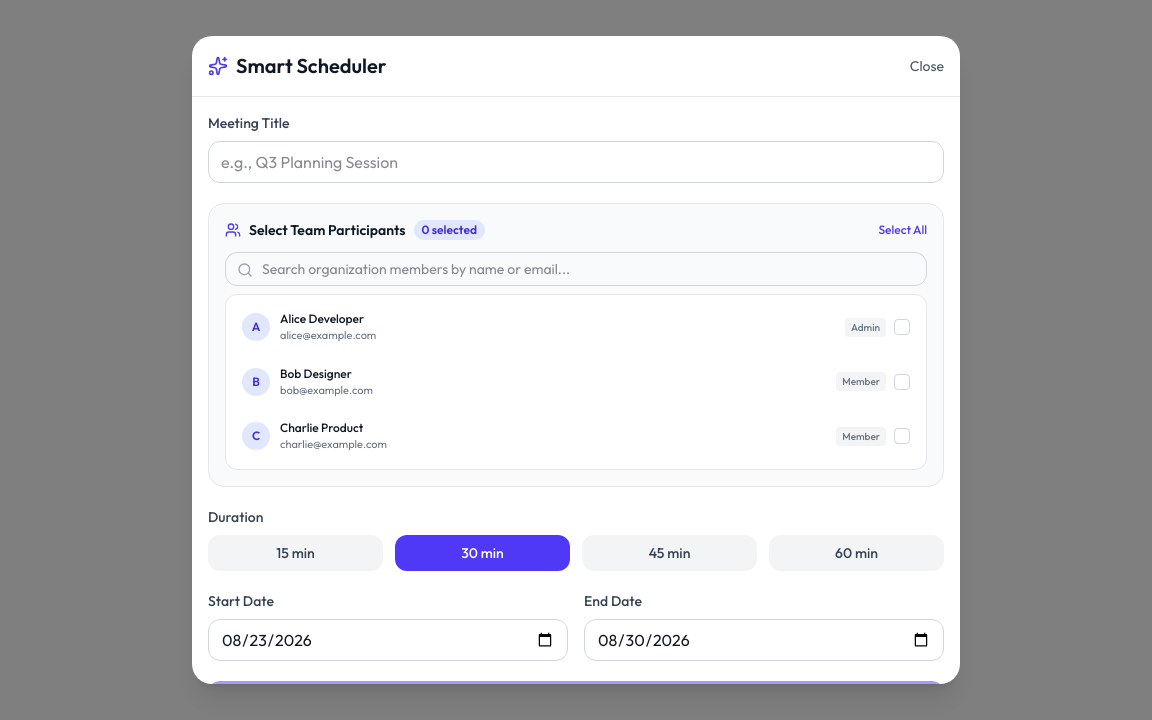
Scenario: SchedulerWizard Component (#1897) › passes selected participant IDs to schedulerApi.createProposal
This screenshot has width=1152, height=720.
Check: the text "Alice Developer" is shown, box top-left (280, 311), bottom-right (376, 327)
# Enter title
Step 1. Type "Sprint Architecture Sync" into the field with placeholder "e.g., Q3 Planning Session" → (576, 162), box top-left (208, 141), bottom-right (944, 183)
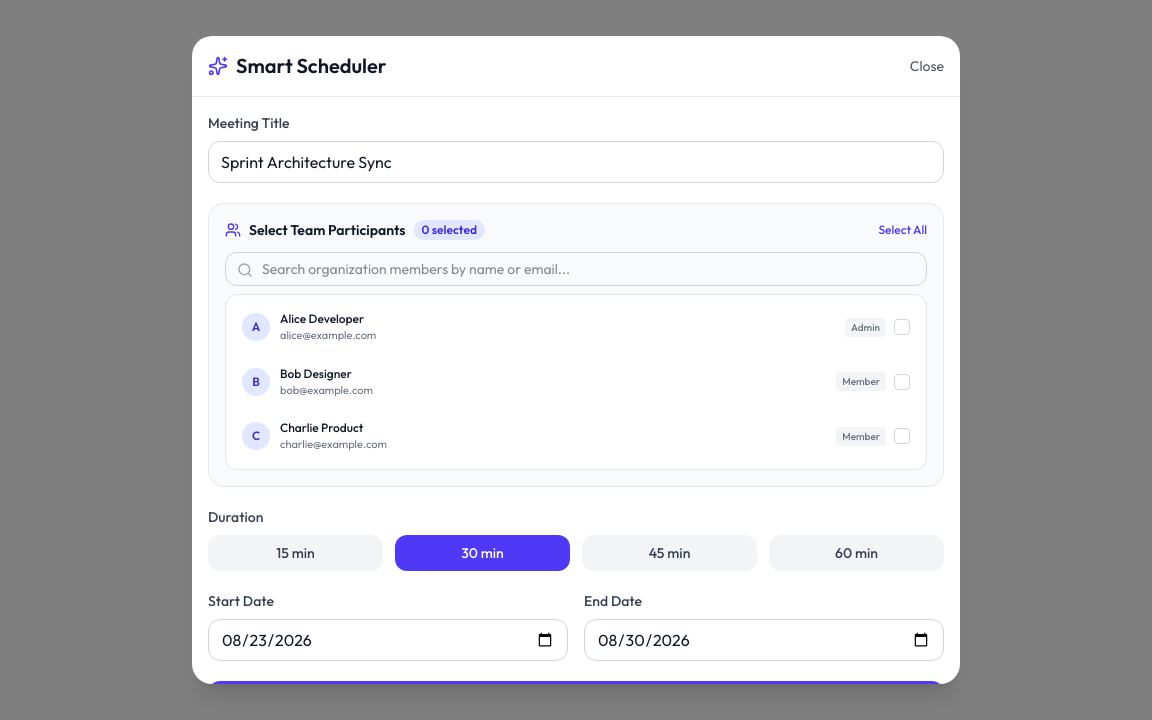
# Select Alice and Bob
Step 2. Click the text "Alice Developer" → (328, 319), box top-left (280, 311), bottom-right (376, 327)
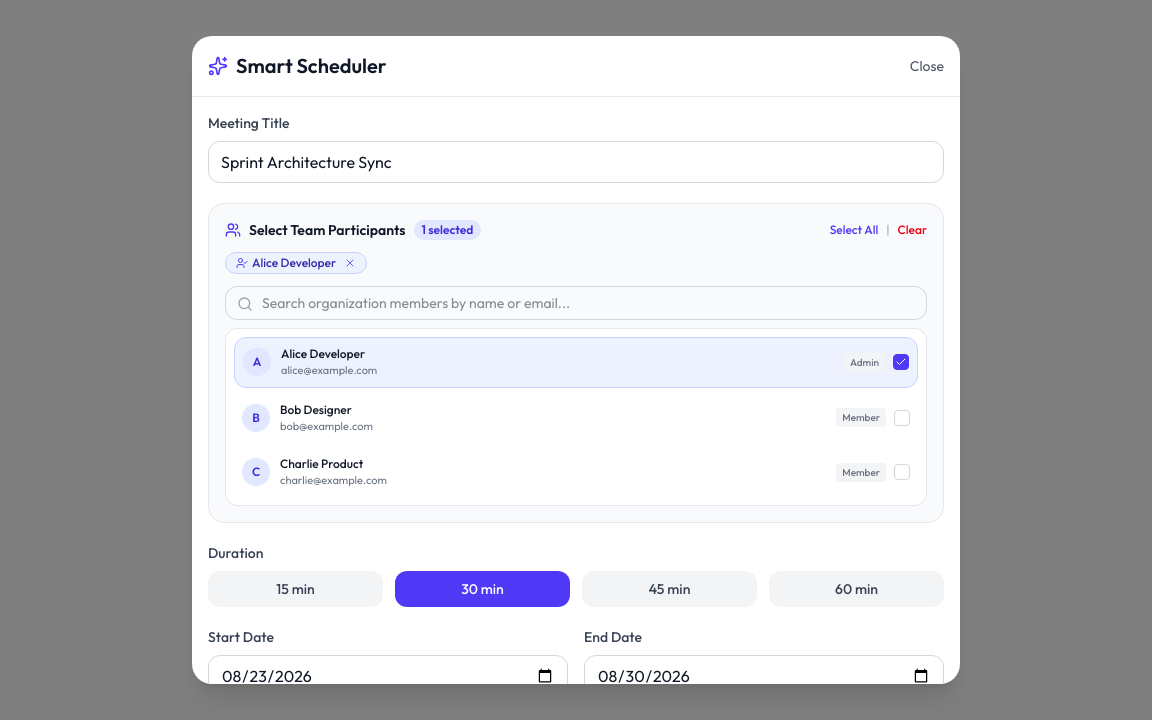
Step 3. Click the text "Bob Designer" → (316, 409), box top-left (280, 402), bottom-right (352, 416)
(page scrolled)
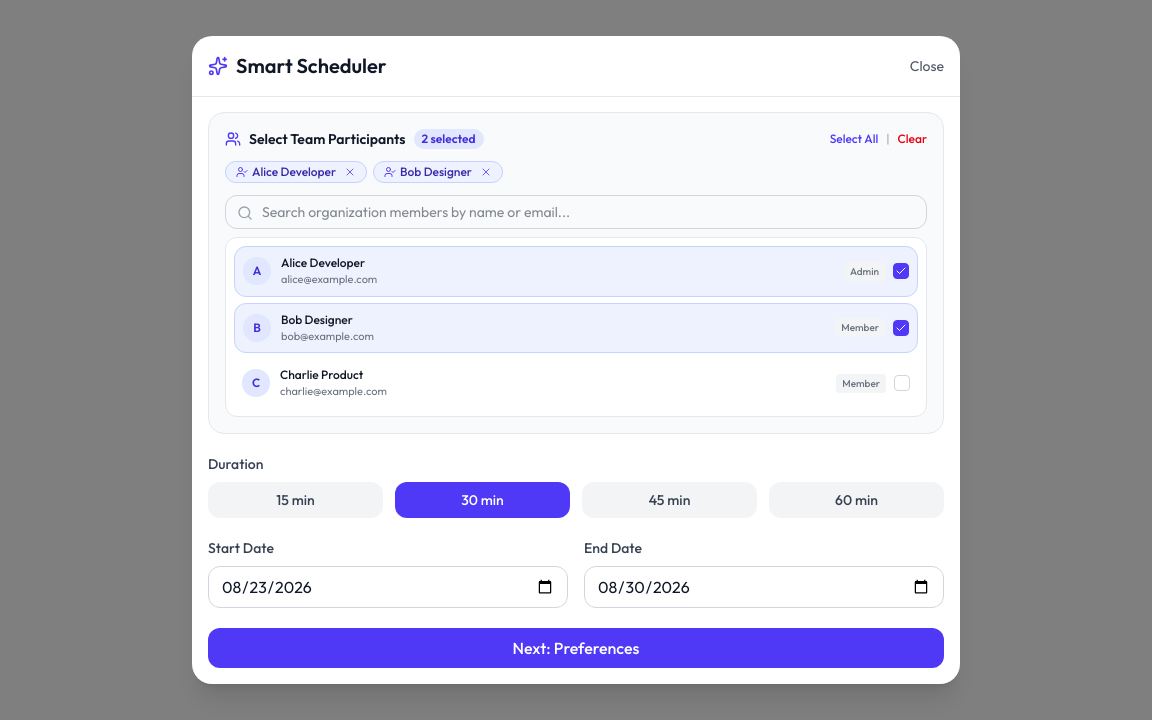
# Next step
Step 4. Click the button "Next: Preferences" → (576, 648), box top-left (208, 628), bottom-right (944, 668)
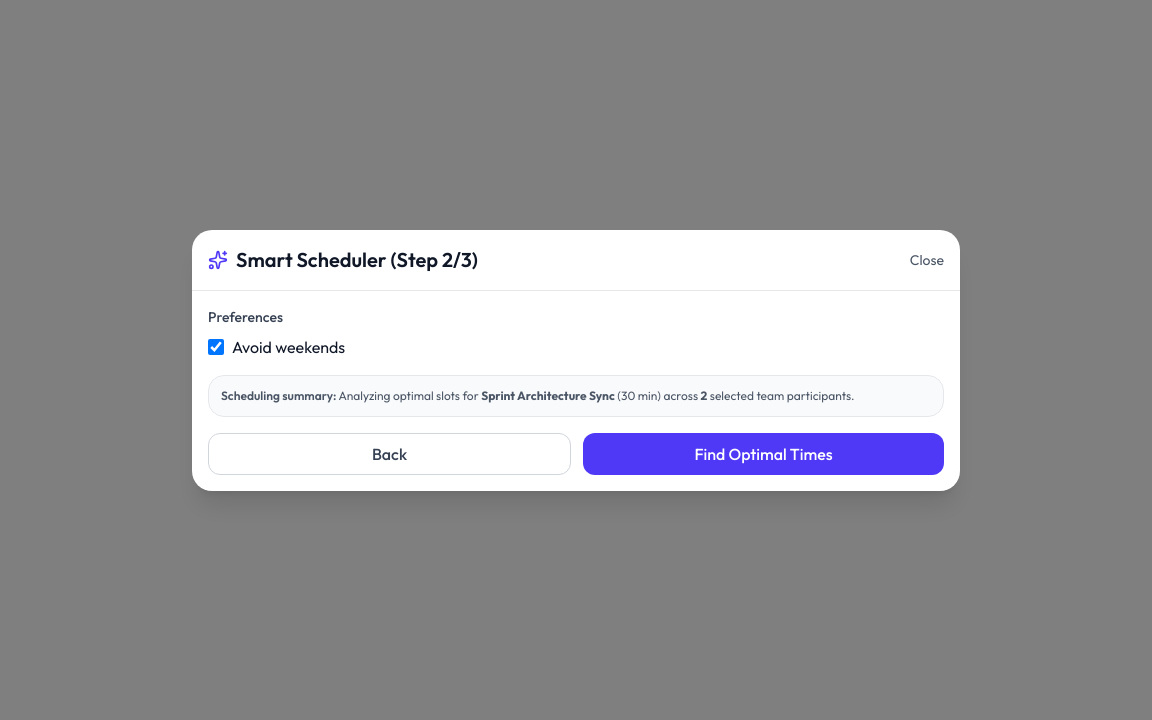
Step 5. Click the button "Find Optimal Times" → (764, 454), box top-left (583, 432), bottom-right (944, 474)
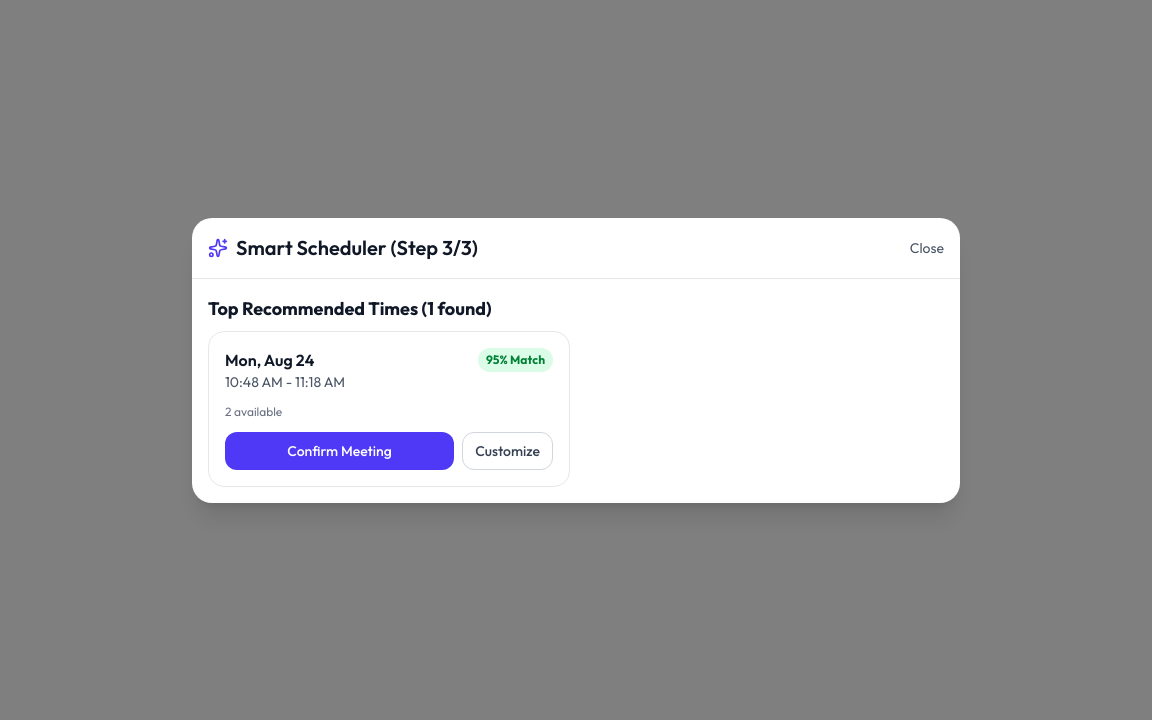
Check: the heading "Top Recommended Times (1 found)" is shown, box top-left (208, 296), bottom-right (492, 320)
